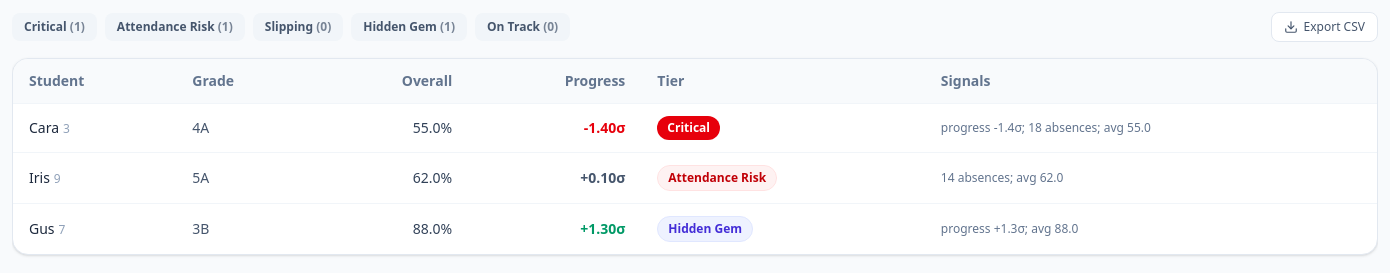
Test: EarlyWarningTab › filters the register when a tier button is toggled
Click the button "Hidden Gem (1)": (409, 27) [351,13,467,41]
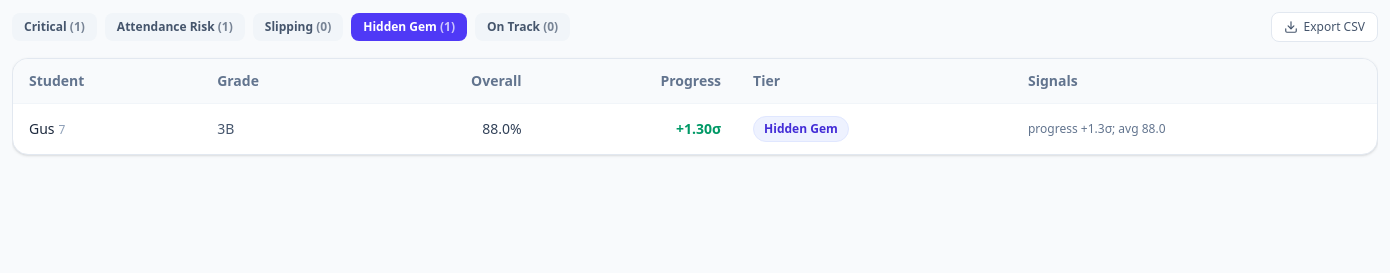
Expected: the text "Gus" is shown, [29,119,55,138]
Now the text "Cara" is gone
